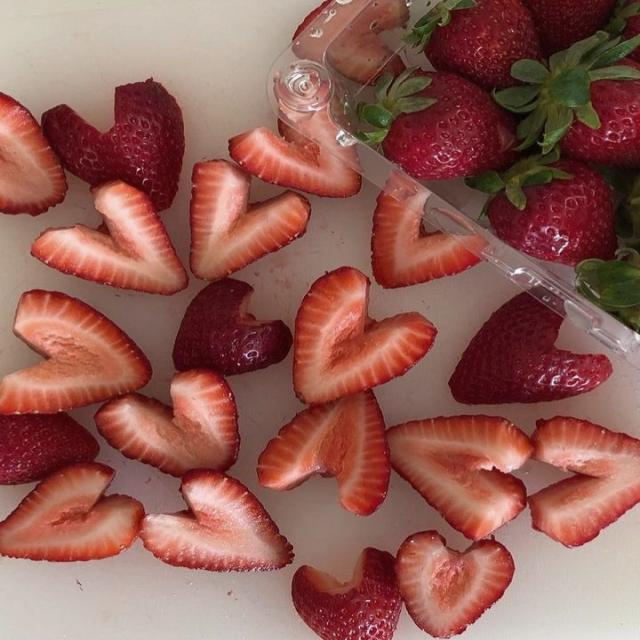strawberry: (494, 32, 639, 168), (357, 67, 516, 180), (468, 150, 617, 266), (406, 0, 540, 90), (523, 0, 616, 56)
strawberry sliced: (293, 267, 436, 405), (0, 289, 150, 414), (42, 79, 184, 210), (450, 292, 612, 404), (388, 416, 532, 540), (31, 181, 188, 294), (258, 390, 390, 514), (140, 468, 292, 571), (95, 369, 239, 477), (189, 159, 310, 281), (529, 416, 639, 547), (0, 462, 144, 561), (396, 530, 514, 638), (372, 174, 483, 288), (172, 277, 292, 376), (229, 108, 361, 197), (292, 547, 402, 639), (0, 93, 66, 215), (0, 413, 99, 484)
